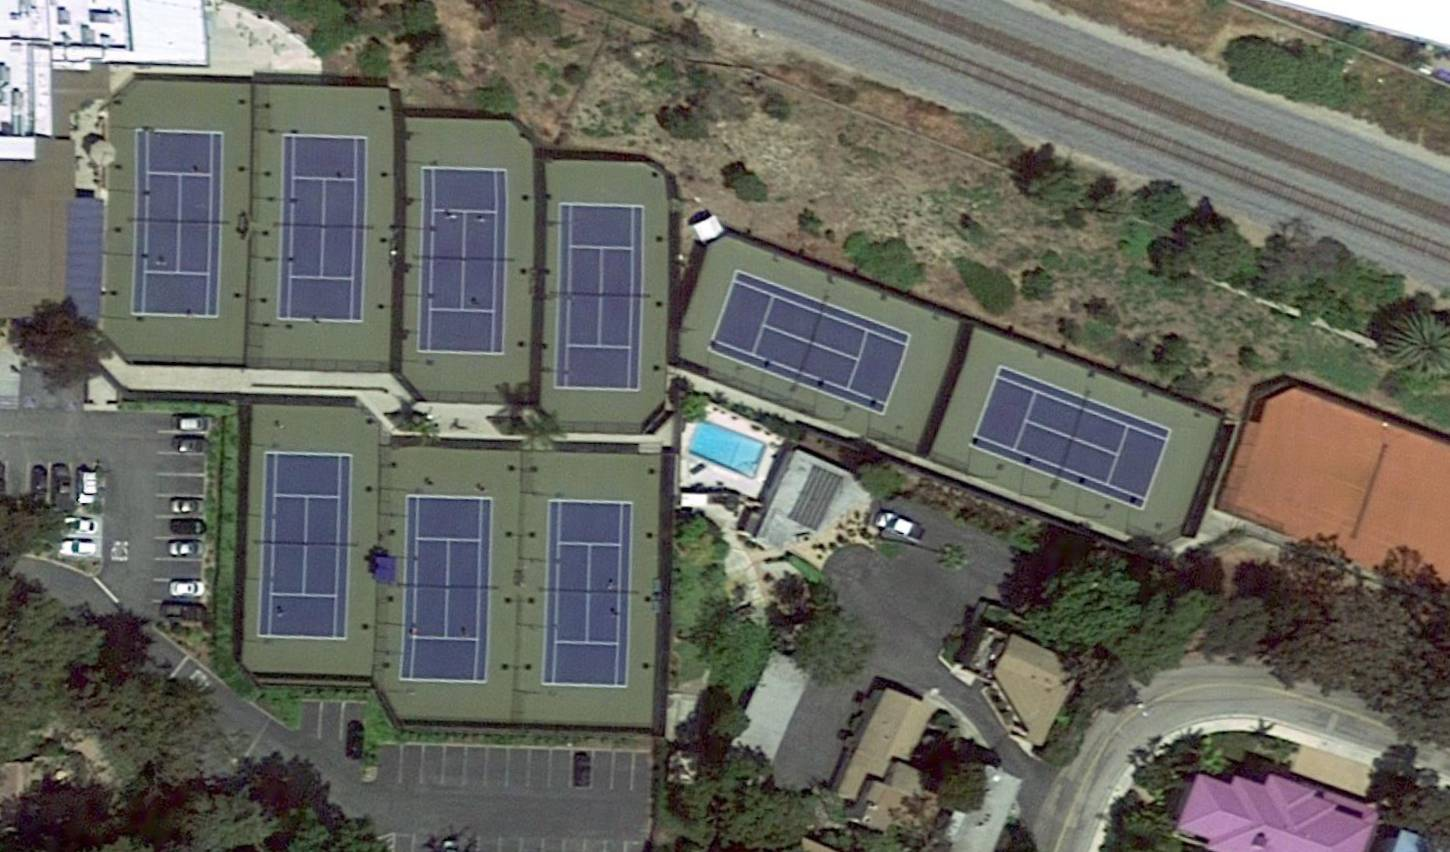small vehicle: (61, 515, 102, 538), (344, 724, 369, 761), (53, 466, 74, 508), (31, 468, 51, 509), (76, 471, 100, 505), (571, 752, 592, 787), (58, 538, 94, 558), (172, 416, 212, 434), (169, 517, 206, 536), (172, 498, 206, 517), (170, 541, 204, 559), (171, 581, 205, 599), (173, 438, 208, 455)
swimming pool: (688, 418, 768, 478)
tennis court: (708, 270, 913, 417), (970, 366, 1173, 509), (415, 167, 509, 358), (399, 496, 494, 682), (540, 502, 634, 689), (131, 131, 226, 316), (258, 455, 353, 639), (554, 205, 645, 391), (279, 134, 367, 320)
